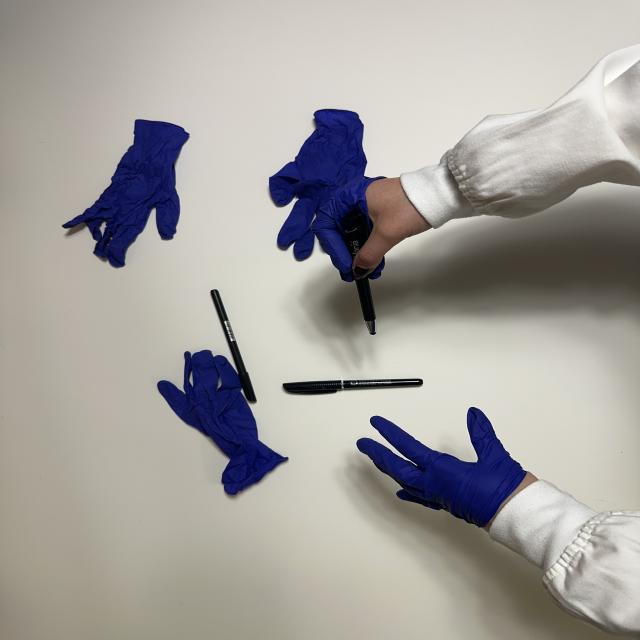glove_partial: (357, 408, 549, 530), (312, 173, 439, 282)
